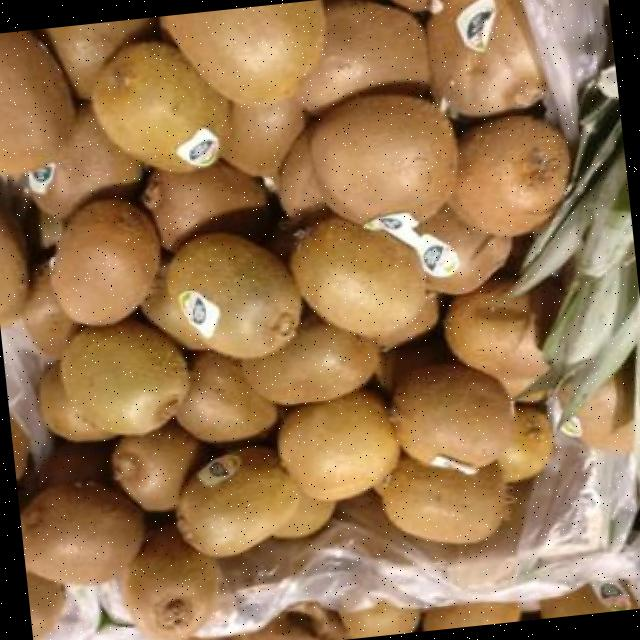kiwi: (311, 96, 455, 223), (90, 42, 228, 172), (159, 0, 323, 103), (288, 215, 424, 337), (166, 233, 300, 355), (59, 318, 189, 434), (295, 0, 429, 110), (448, 115, 569, 236), (49, 197, 159, 325), (426, 0, 544, 116), (444, 279, 558, 397), (389, 362, 509, 472), (26, 103, 141, 217), (176, 447, 297, 555), (280, 390, 397, 498), (19, 482, 143, 583), (240, 317, 378, 404), (376, 455, 506, 543), (142, 160, 269, 250), (122, 524, 219, 640), (0, 29, 73, 169), (174, 350, 275, 442), (40, 19, 151, 98), (416, 205, 510, 292), (110, 421, 199, 510), (561, 356, 630, 450), (222, 97, 302, 175), (37, 362, 112, 440), (141, 261, 204, 349), (22, 266, 77, 358), (277, 127, 326, 220), (497, 404, 552, 482), (338, 601, 416, 638), (423, 603, 519, 630), (274, 494, 335, 536), (25, 573, 63, 640), (594, 580, 630, 611)
